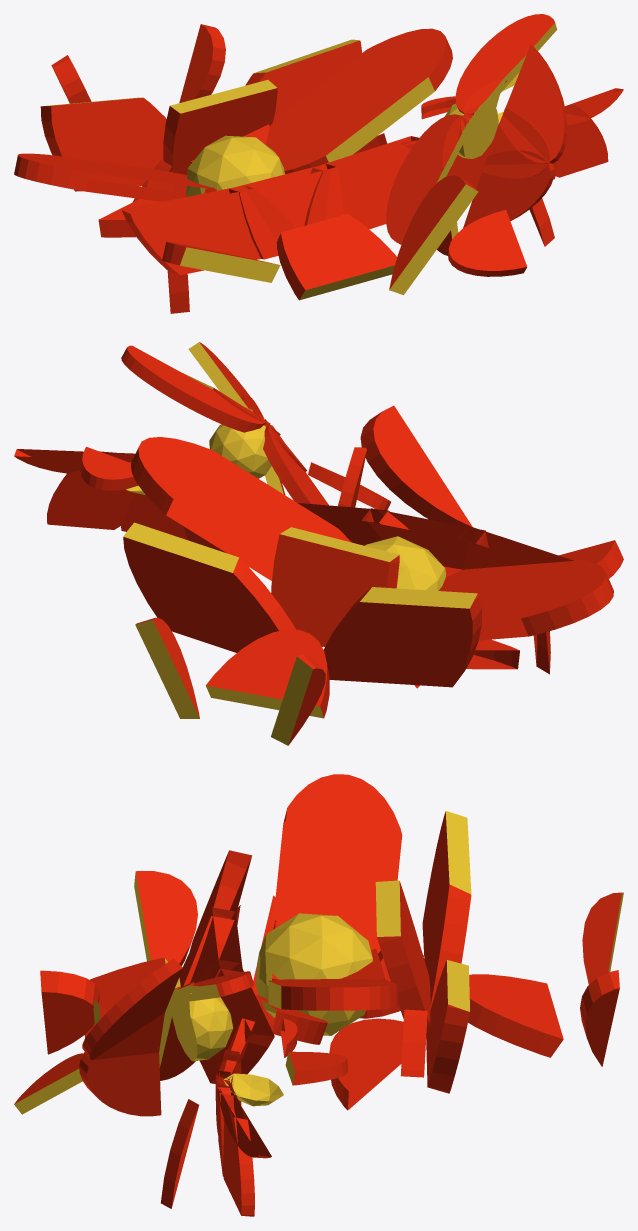
Rendered from SlicedFlowers.glb.
3 views of the same model, one above another, from view 1: azimuth 30°, elevation 25°; view 2: azimuth 150°, elevation 25°; view 3: azimuth 270°, elevation 25° (orthographic). The views are drawn at different scales.
Parts seen in each view (by area): view 1: Icosphere.028; view 2: Icosphere.028; view 3: Icosphere.028.
Part boxes in pixels (<box>): Icosphere.028: <box>14,14,623,313</box>; Icosphere.028: <box>14,342,623,745</box>; Icosphere.028: <box>14,774,623,1216</box>.
Size of the model in its own units: 1.1 by 0.3772 by 0.8518.
